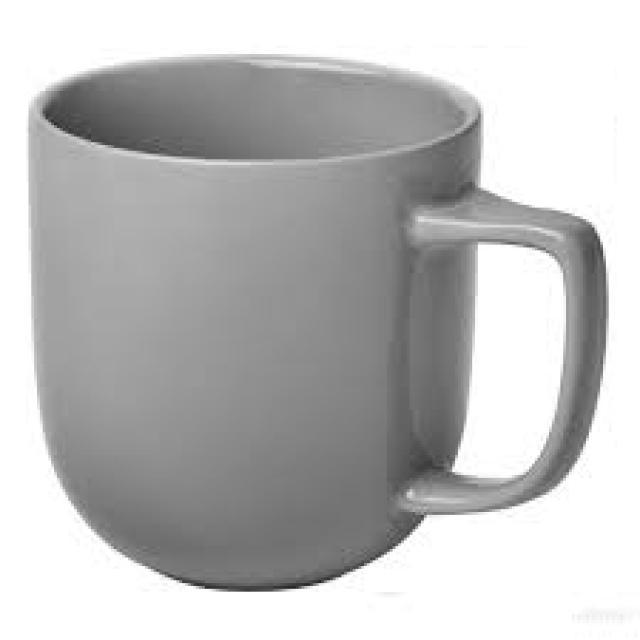Coffee Mug: (30, 50, 607, 590)
